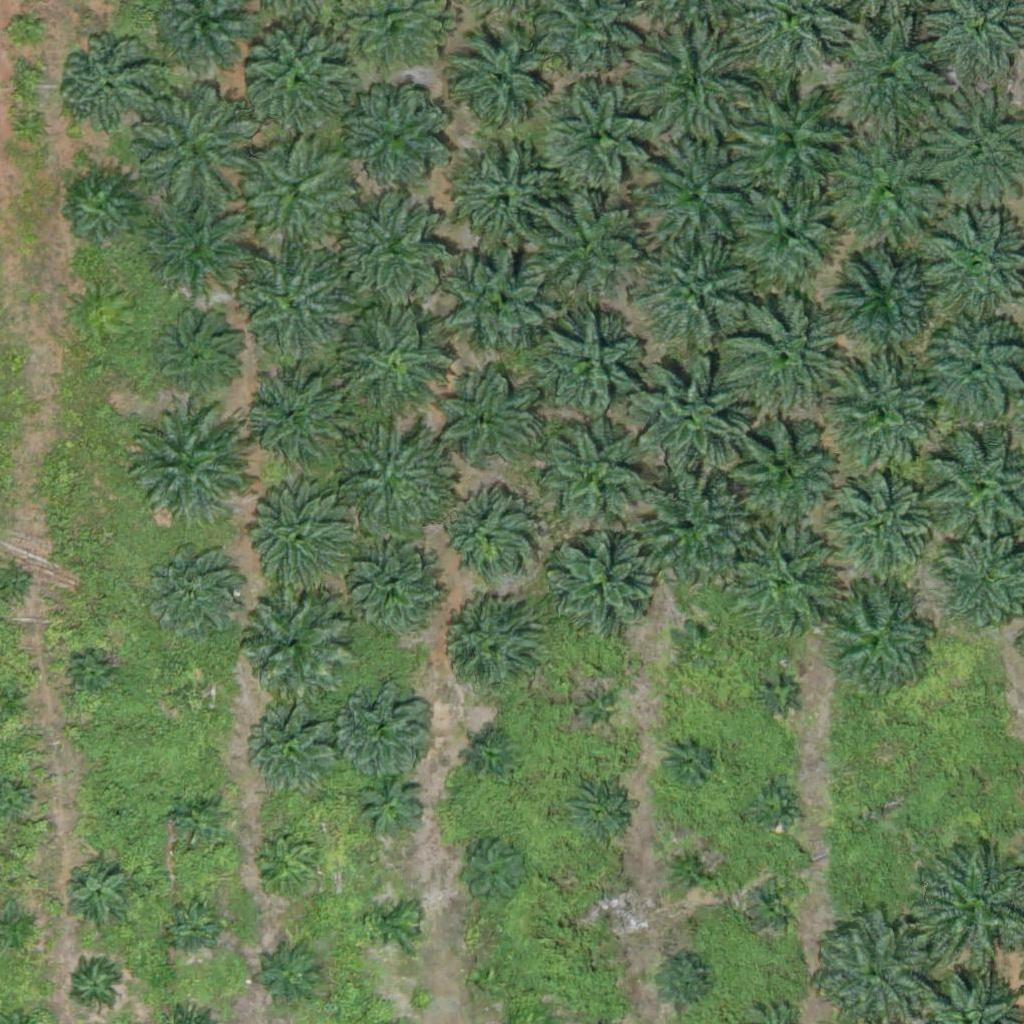Kelapa_Sawit: (827, 19, 952, 145), (619, 24, 744, 150), (129, 83, 254, 209), (122, 403, 247, 529), (532, 417, 657, 543), (635, 132, 760, 258), (633, 226, 758, 352), (628, 361, 753, 487), (628, 476, 753, 602), (725, 71, 850, 197), (729, 170, 854, 296), (725, 291, 850, 417), (715, 404, 840, 530), (817, 126, 942, 252), (334, 418, 459, 543), (817, 465, 930, 579), (829, 358, 942, 472), (244, 26, 357, 139), (342, 76, 455, 189), (450, 146, 563, 259), (233, 586, 346, 699), (337, 191, 450, 304), (337, 304, 450, 417), (435, 242, 548, 355), (549, 532, 662, 645), (821, 584, 934, 697), (832, 246, 945, 359), (529, 193, 641, 307), (443, 24, 555, 137), (544, 80, 656, 193), (242, 142, 354, 255), (143, 193, 255, 306), (238, 249, 350, 362), (240, 482, 352, 595), (531, 306, 643, 419), (728, 532, 840, 645), (143, 542, 243, 643), (246, 370, 346, 471), (344, 542, 444, 643), (434, 370, 534, 471), (436, 487, 536, 588), (434, 600, 534, 701), (339, 677, 439, 778), (58, 38, 158, 138), (155, 307, 242, 395), (252, 710, 339, 798), (64, 172, 139, 248), (453, 833, 528, 908), (258, 945, 321, 1008), (167, 790, 230, 853), (651, 950, 714, 1013), (64, 859, 126, 922), (569, 781, 631, 844), (360, 772, 422, 835), (258, 835, 320, 898), (366, 895, 416, 946), (666, 842, 716, 893), (71, 961, 121, 1011), (165, 902, 215, 952), (664, 733, 714, 783), (750, 880, 800, 930), (753, 670, 803, 720), (749, 781, 799, 831), (569, 685, 619, 735), (672, 616, 722, 666), (473, 963, 511, 1001), (8, 15, 45, 53), (471, 739, 509, 776), (179, 677, 217, 714), (75, 657, 112, 695), (596, 896, 621, 921), (106, 807, 131, 832)
